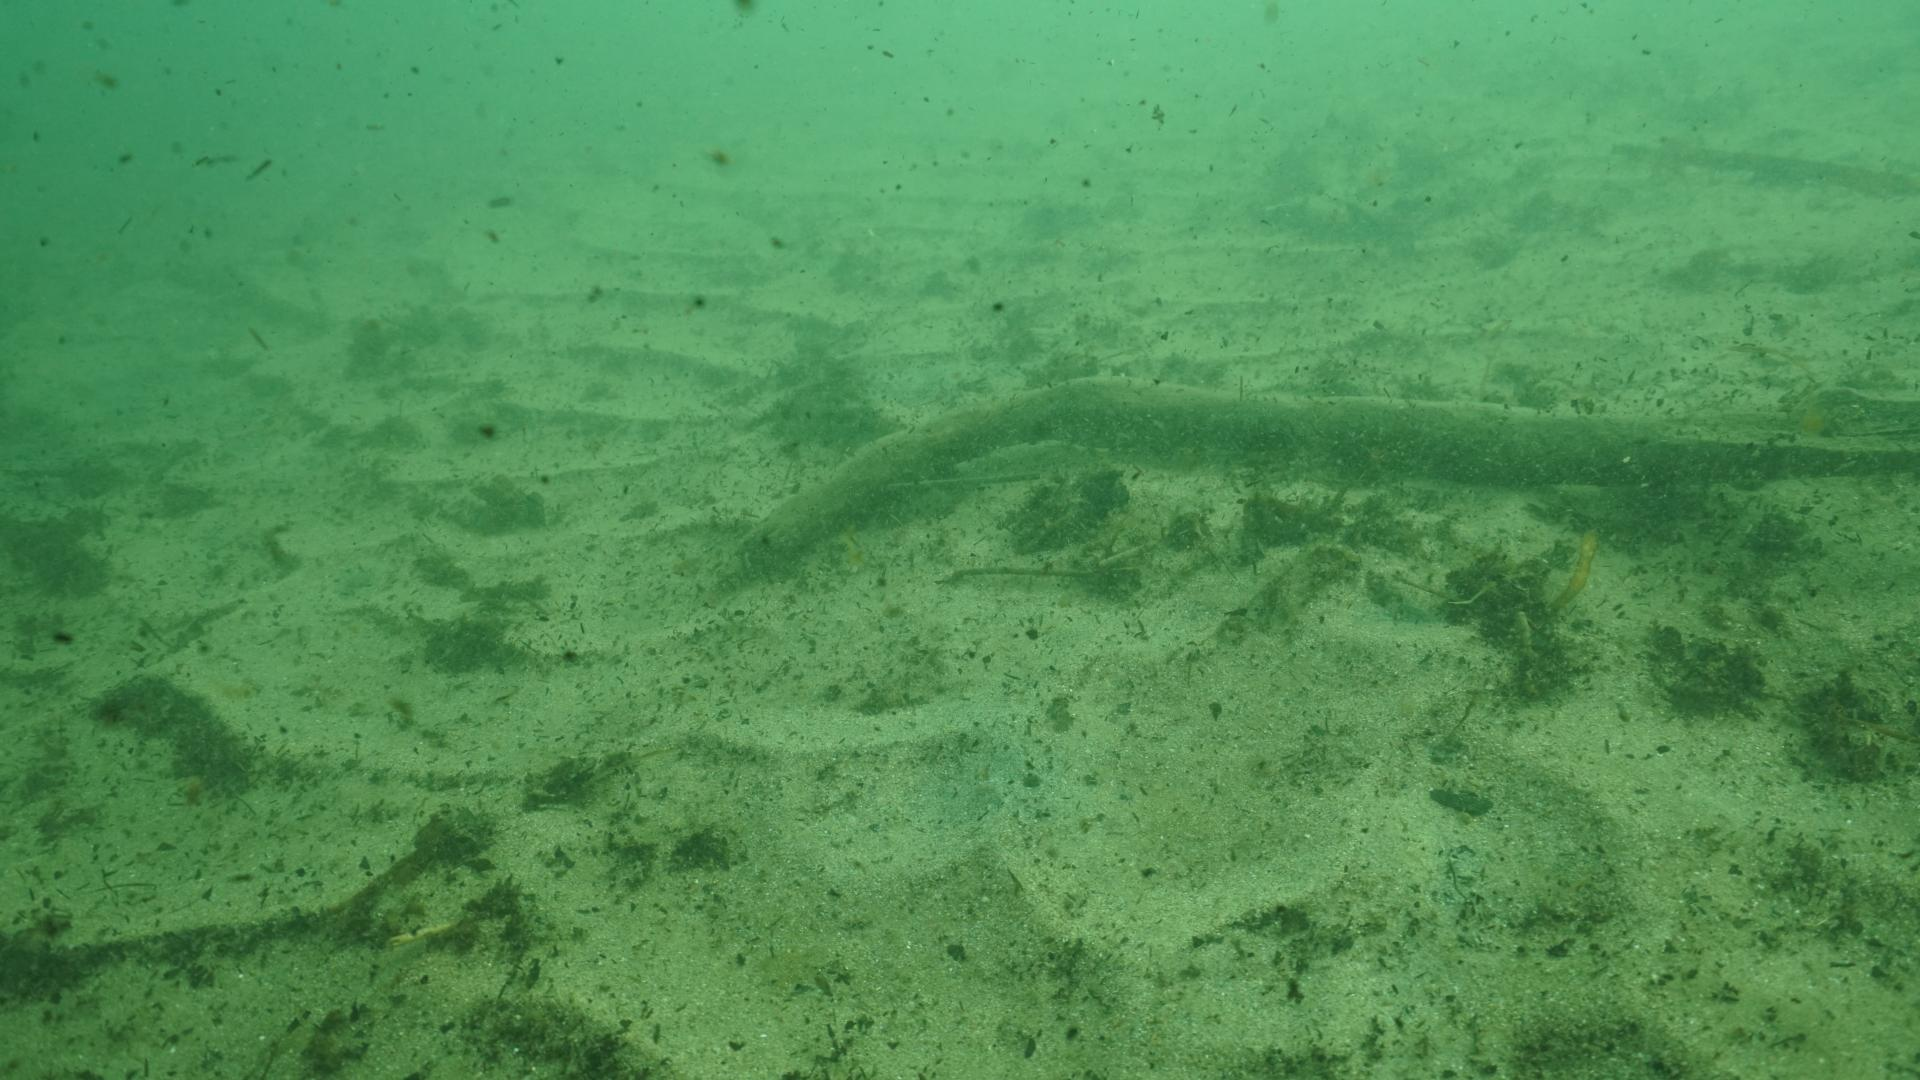wood: (723, 376, 1920, 582)
